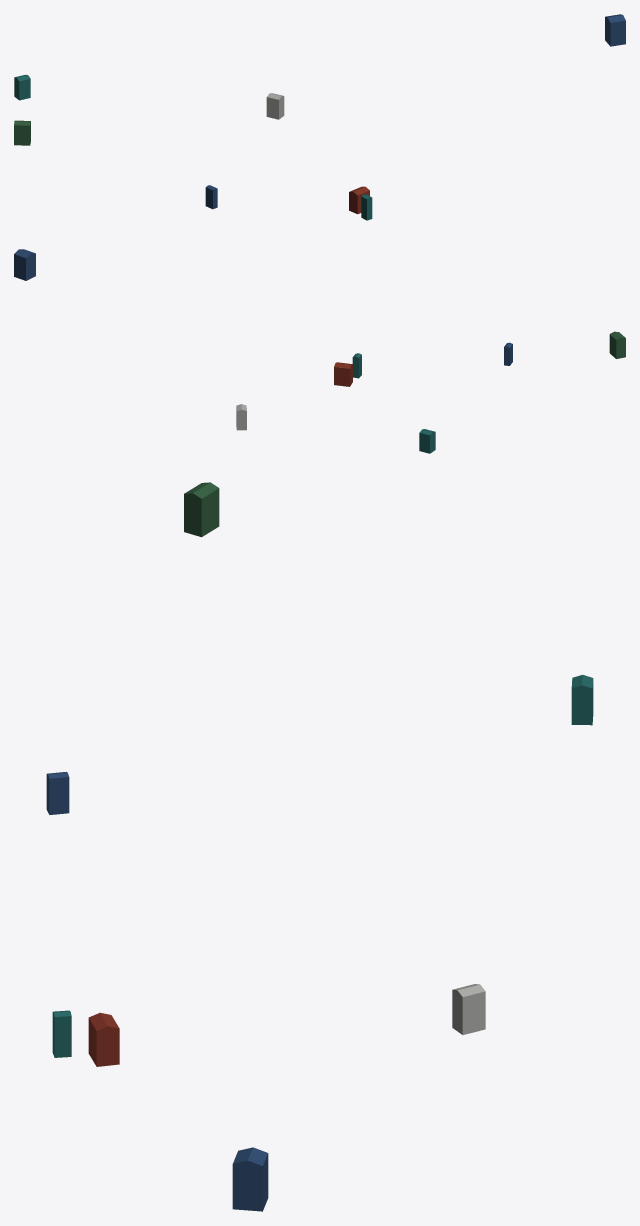
Rendered from near-15-27351-14865.9f12f4d7.glb.
3 renders of one model, top to bottom at view 1: azimuth 30°, elevation 25°; view 2: azimuth 150°, elevation 25°; view 3: azimuth 270°, elevation 25°, orthographic. The views are drawn at different scales.
Bounding box in the file's own units: 602 × 135 × 239.
